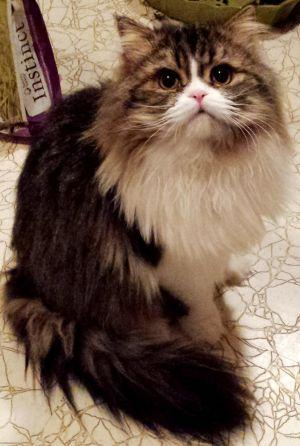persian: (85, 4, 285, 171)
